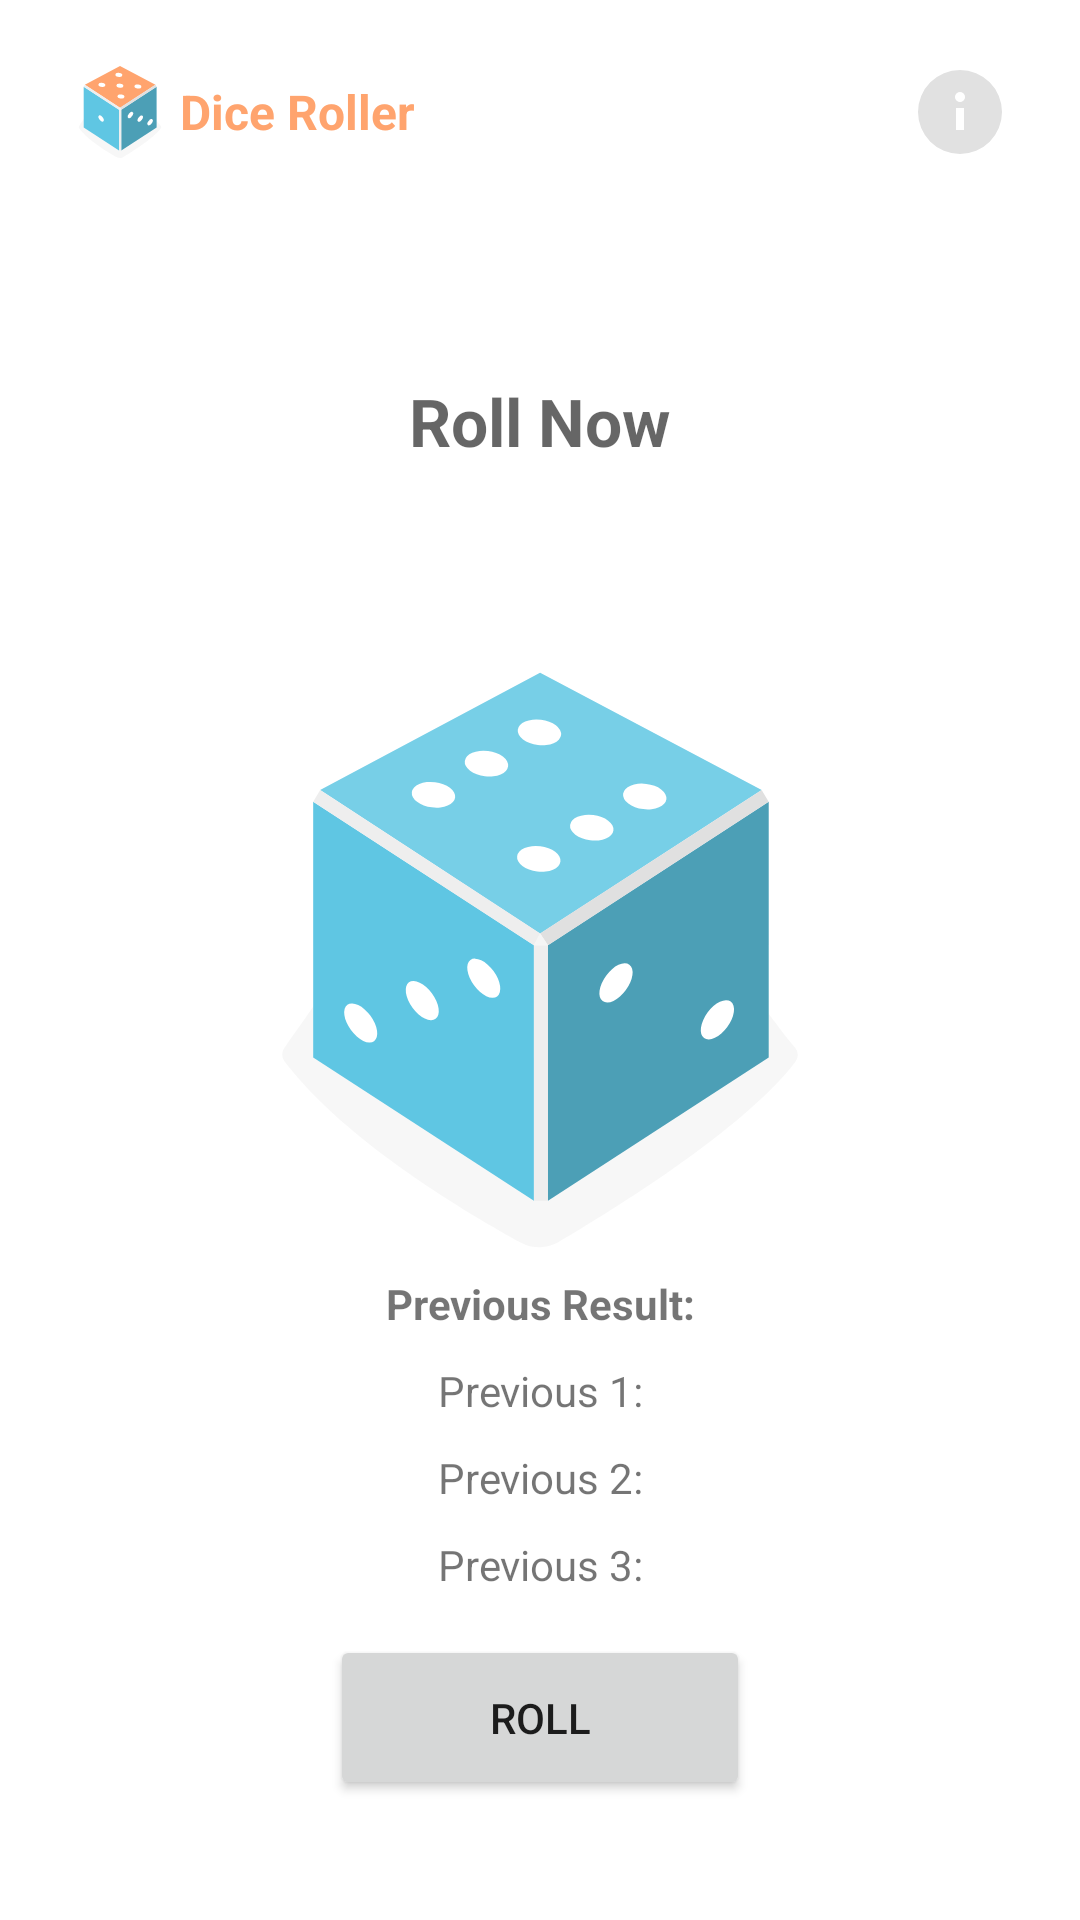

Icons on this 1080w x 1920h Android screen, each with its box as (left=x1, top=y1, right=x2, bottom=y2):
info: (left=918, top=70, right=1002, bottom=154)
